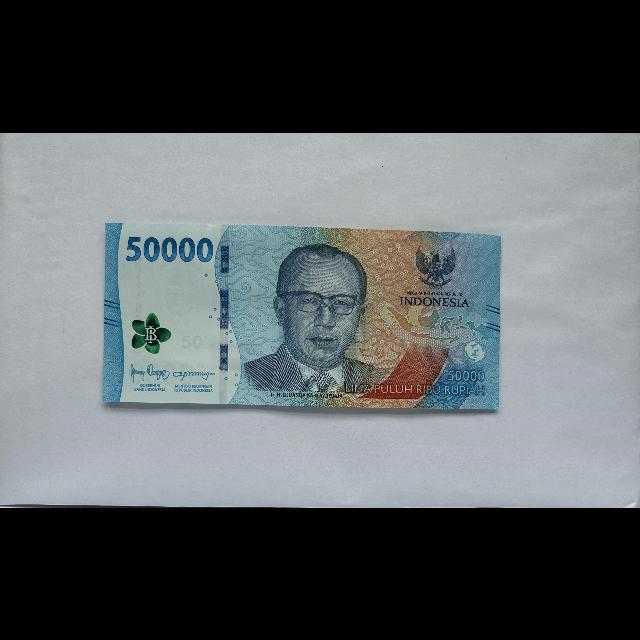Asli-50k: (96, 217, 508, 419)
Tinta-Asli-50k: (130, 311, 172, 355)
